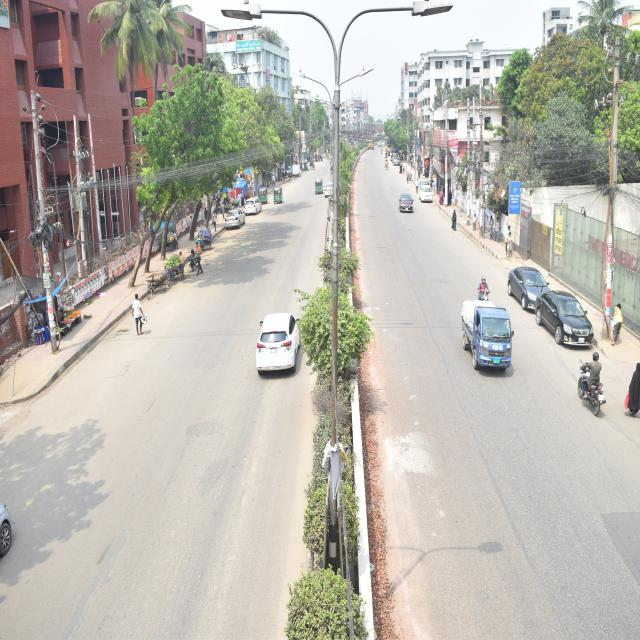car: (238, 283, 319, 415), (527, 276, 613, 358), (500, 240, 558, 323), (392, 182, 423, 235), (238, 182, 266, 232), (216, 201, 249, 242), (320, 168, 343, 218), (418, 179, 442, 211)
motorbike: (558, 336, 628, 428), (167, 226, 208, 286), (466, 264, 503, 316)
pickup-van: (454, 286, 529, 390), (286, 154, 305, 187)
